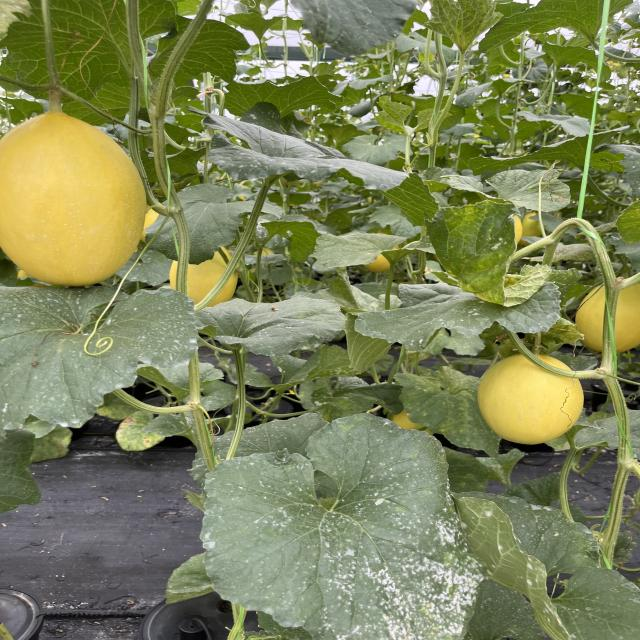SLCV: (416, 200, 553, 308)
downy mildew: (204, 112, 408, 200), (341, 274, 572, 350)
powdery mildew: (199, 414, 496, 638), (0, 280, 184, 430)
